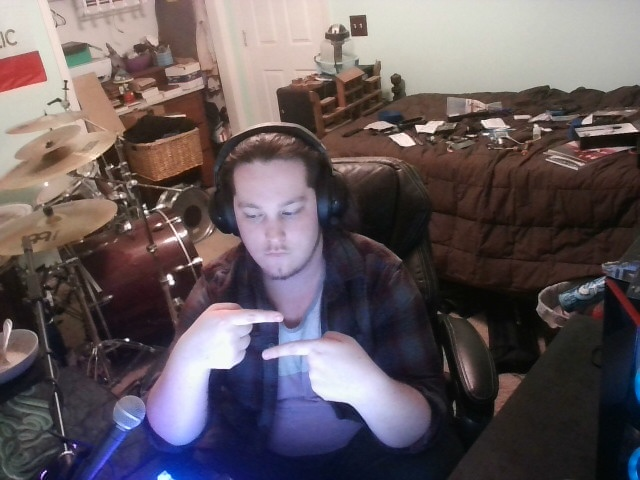go: (194, 296, 372, 407)
